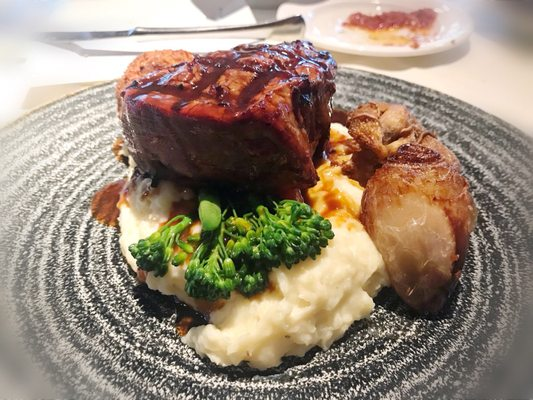curry: (129, 194, 335, 300)
